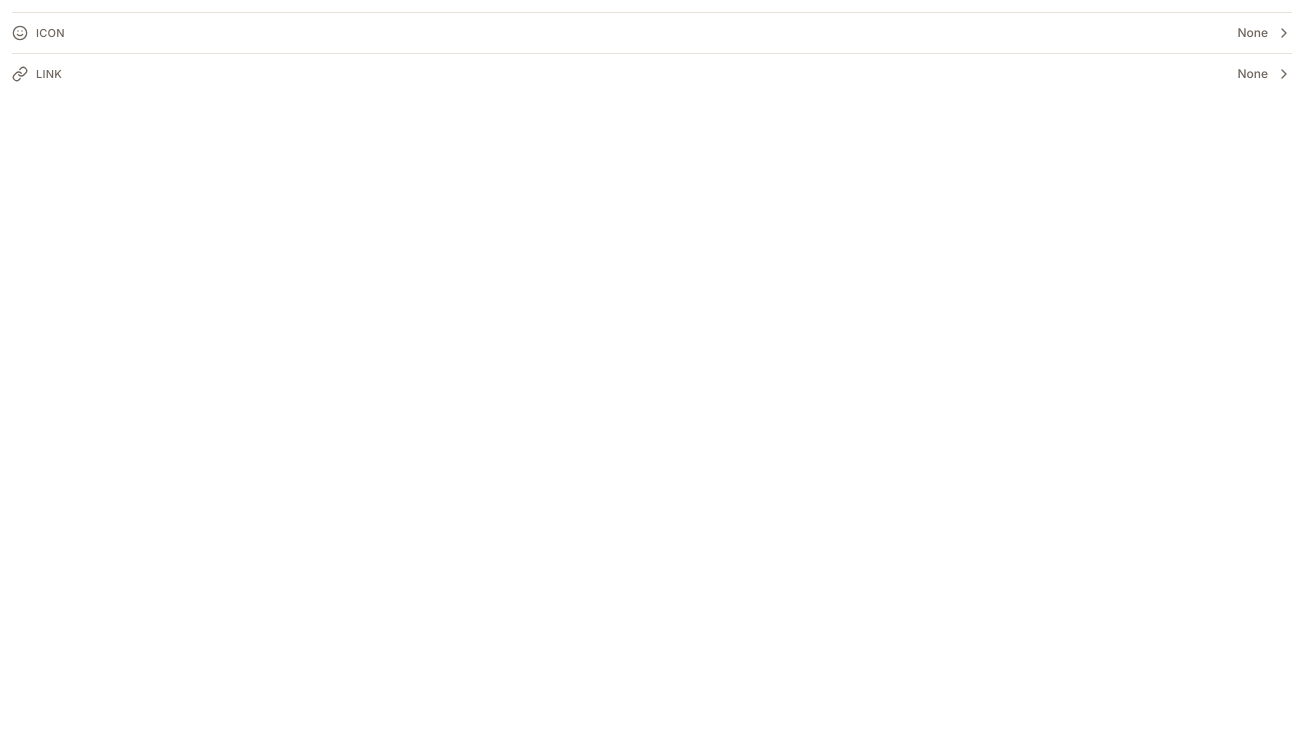
Test case: None in Link removes the scoped link and reflects its state
Expected: the field labelled "Link Address" is not shown
Click the button "Icon None": (1253, 32) [12,13,1292,53]
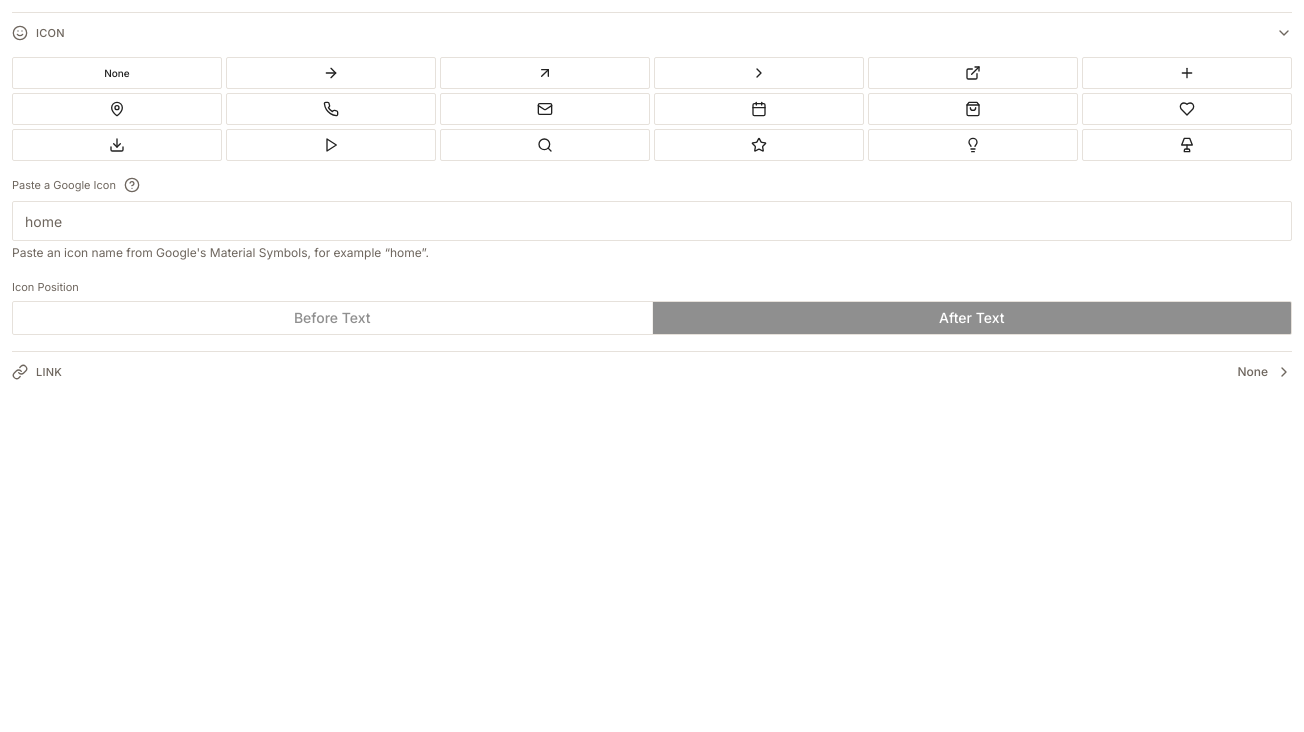
Click the button "Link None": (1253, 372) [12,352,1292,392]
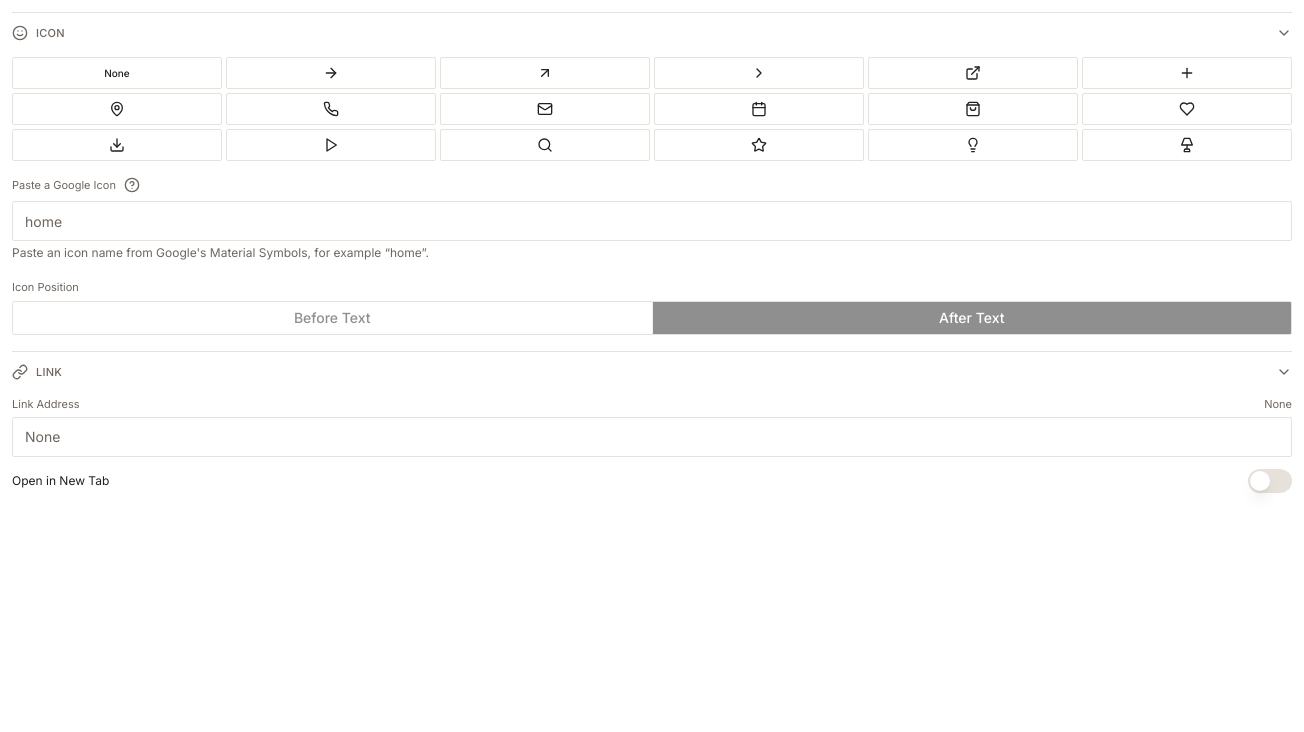
In the field labelled "Link Address": (652, 436) [12,416,1292,456], type "/about"
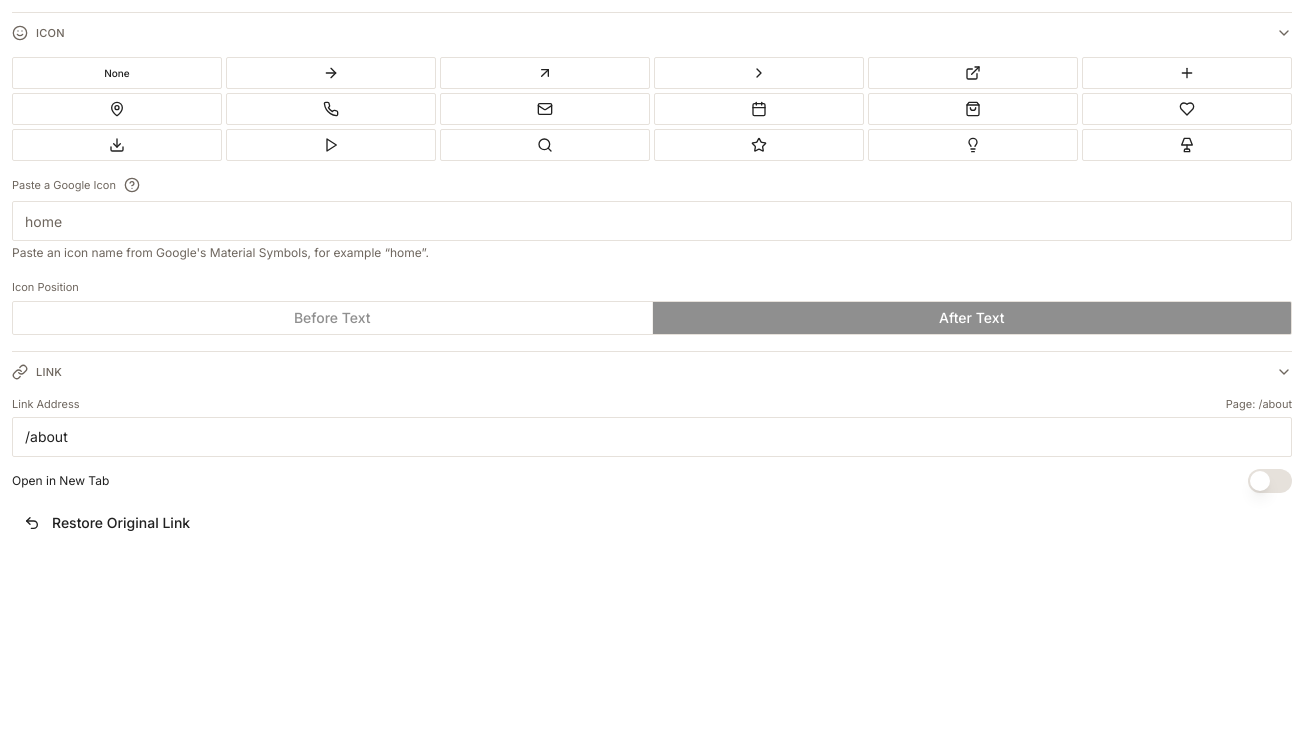
Focus the field labelled "Link Address": (652, 436) [12,416,1292,456]
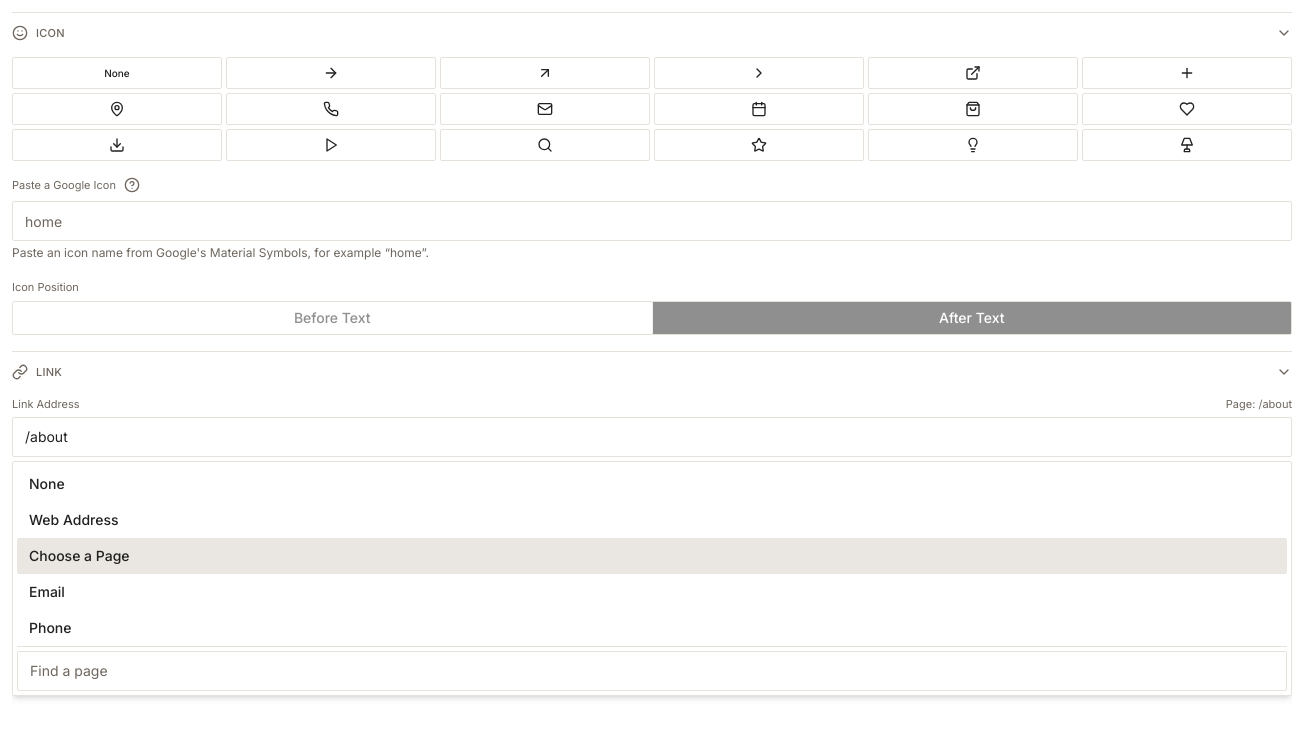
Click the button "None" below "Link Address": (47, 483) [17,466,1287,502]
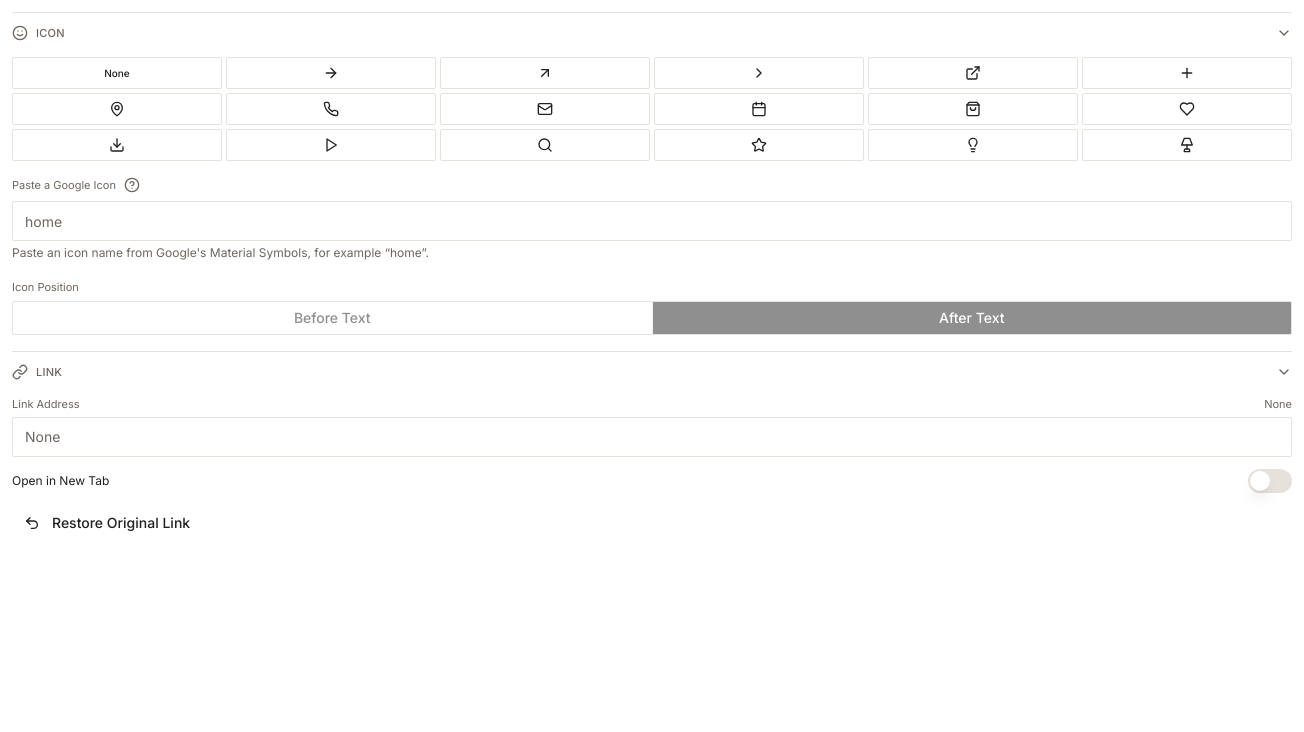
Focus the field labelled "Link Address": (652, 436) [12,416,1292,456]
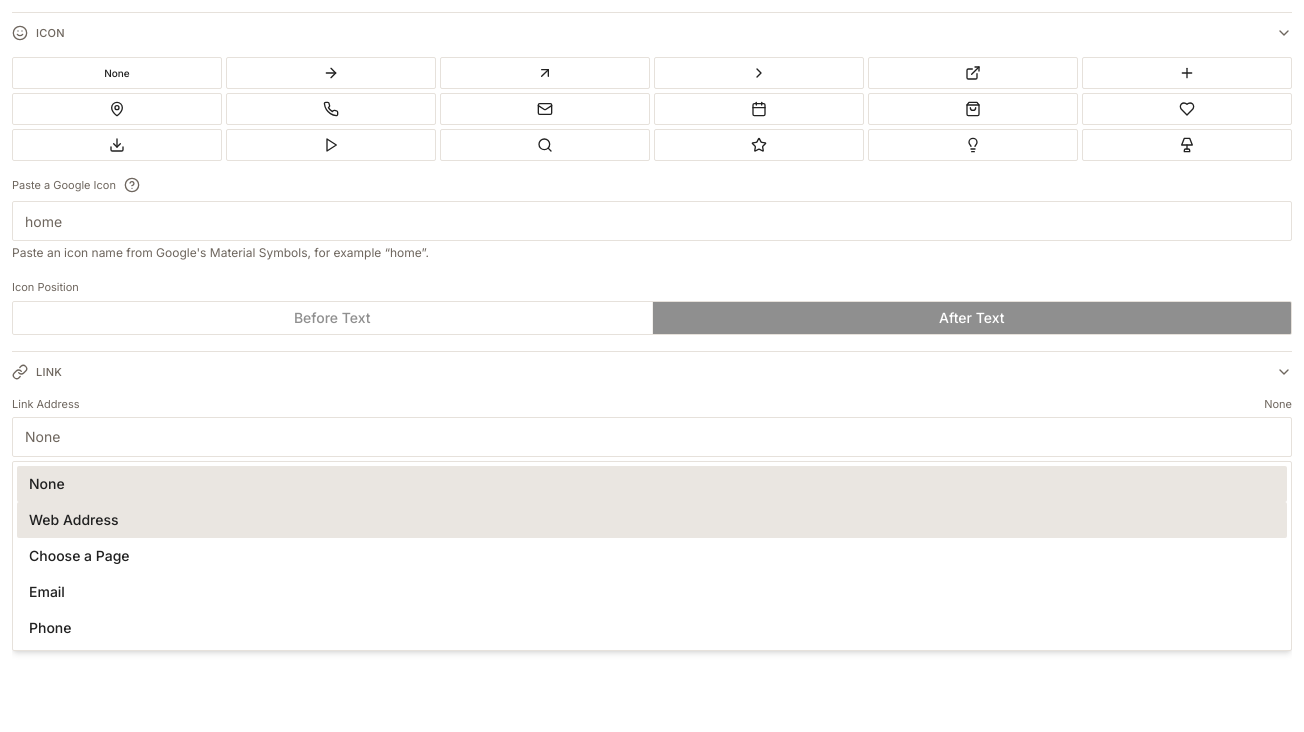
Now the button "None" below "Link Address" is pressed, box [17,466,1287,502]
